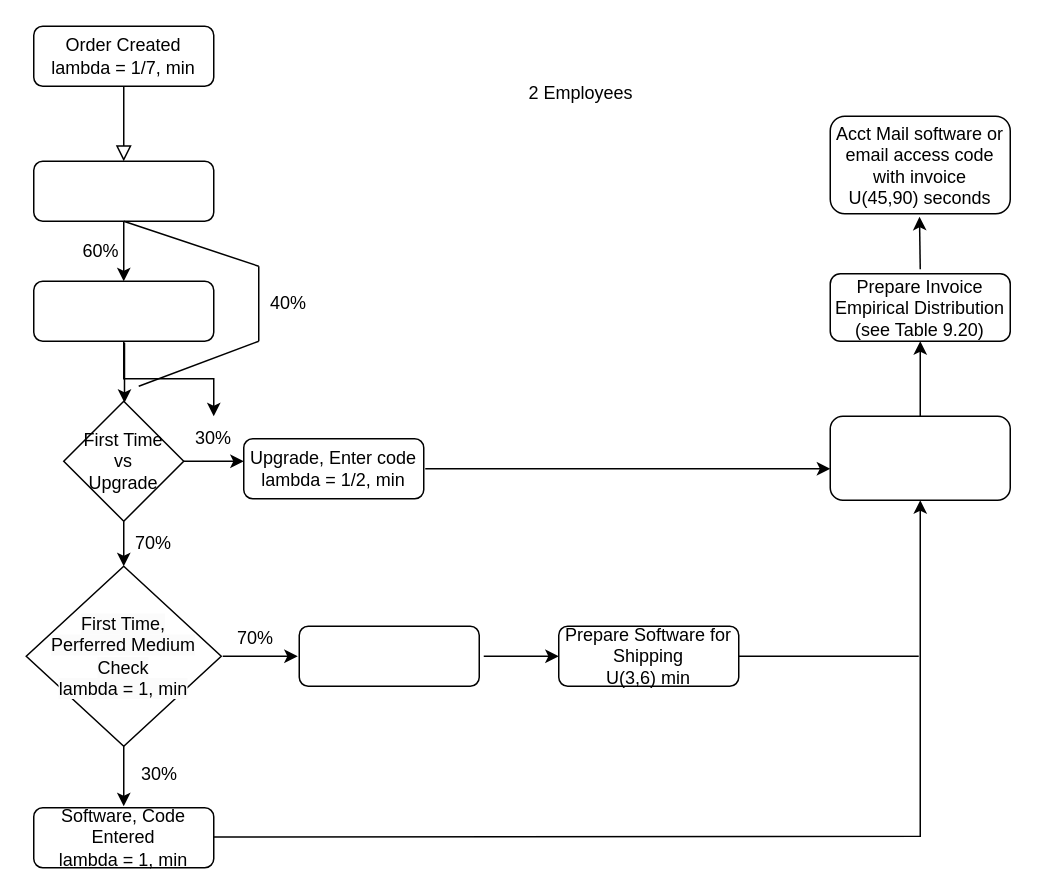
Some shapes in this 1037 by 896 pixel diagram are drawn without their labels. Here are the shapes that lost their labels. From the top down, the centre of each, then its label:
At point 123,190: "Clerk searches buyer's name U(20,45), seconds".
At point 123,310: "Buyer not found, Clerk enters info U(10,30), seconds".
At point 919,457: "Accounting Charge CC lambda = 1/2, min".
At point 388,655: "CD Version N(5,1) min".
